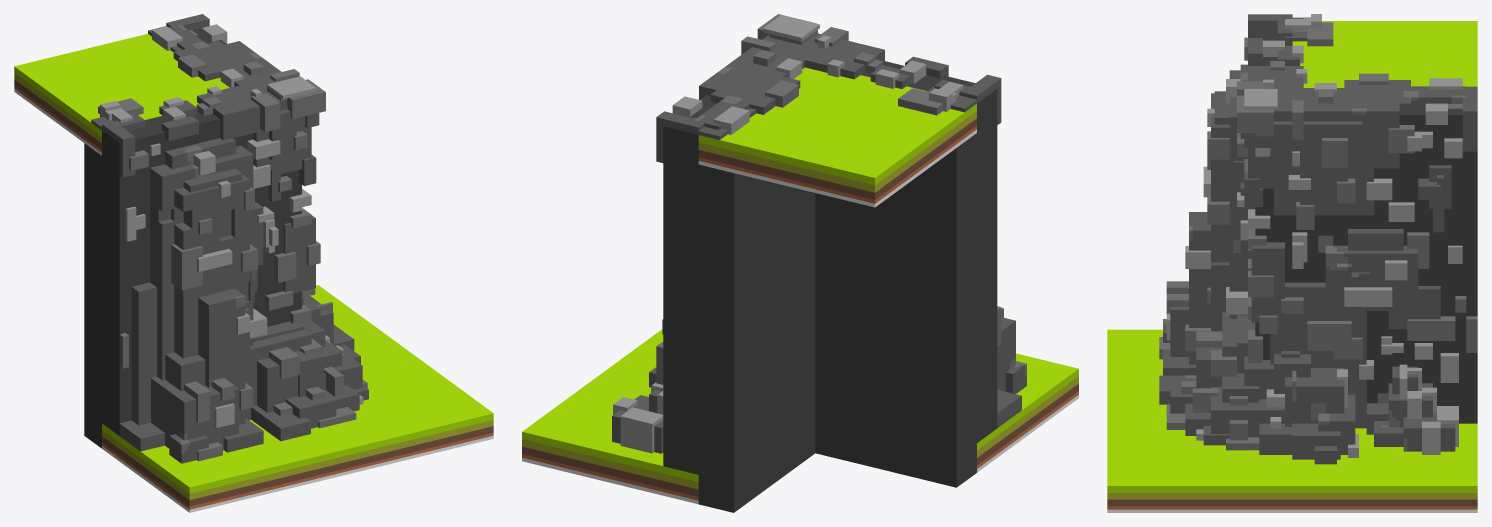
File: Cliffs-3-Cliff Corner Out.obj
The picture shows the model from 3 angles, left to right: view 1: azimuth 30°, elevation 25°; view 2: azimuth 150°, elevation 25°; view 3: azimuth 270°, elevation 25°; orthographic projection. The views are drawn at different scales.
Parts seen in each view (by area): view 1: Cliff Corner Out; view 2: Cliff Corner Out; view 3: Cliff Corner Out.
Part boxes in pixels (x1,y1,x2,y2): Cliff Corner Out: (14,14,493,512); Cliff Corner Out: (522,14,1078,512); Cliff Corner Out: (1107,14,1477,512).
Size of the model in its own units: 10 by 10.4 by 10.
Materials: 1 (1 with a texture image).
